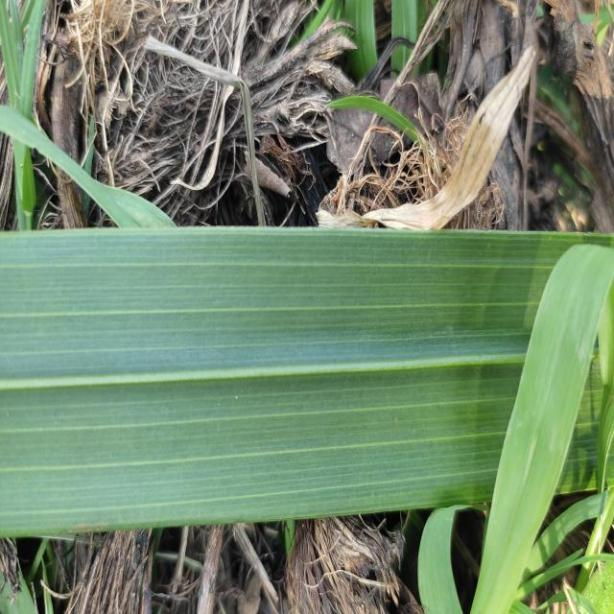Healthy: (0, 226, 614, 540)
